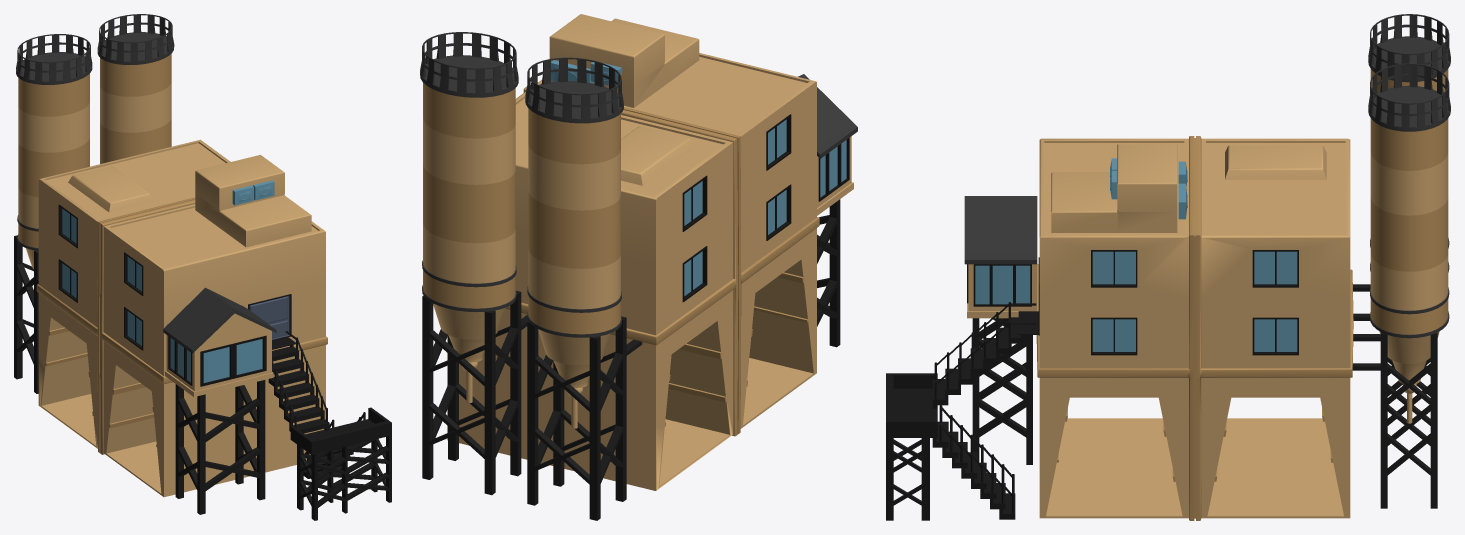
The model's file is industrial-buildings-building-B.fbx.
The picture shows the model from 3 angles, left to right: view 1: azimuth 30°, elevation 25°; view 2: azimuth 150°, elevation 25°; view 3: azimuth 270°, elevation 25°; orthographic projection. The views are drawn at different scales.
Visible parts, largest first — view 1: industrial-buildings-building-B; view 2: industrial-buildings-building-B; view 3: industrial-buildings-building-B.
Part boxes in pixels (x1=…): industrial-buildings-building-B: x1=14, y1=14, x2=391, y2=520; industrial-buildings-building-B: x1=420, y1=14, x2=857, y2=520; industrial-buildings-building-B: x1=886, y1=14, x2=1450, y2=520.
Bounding box in the file's own units: 1006 × 1908 × 2367.
1 material, 1 textured.
